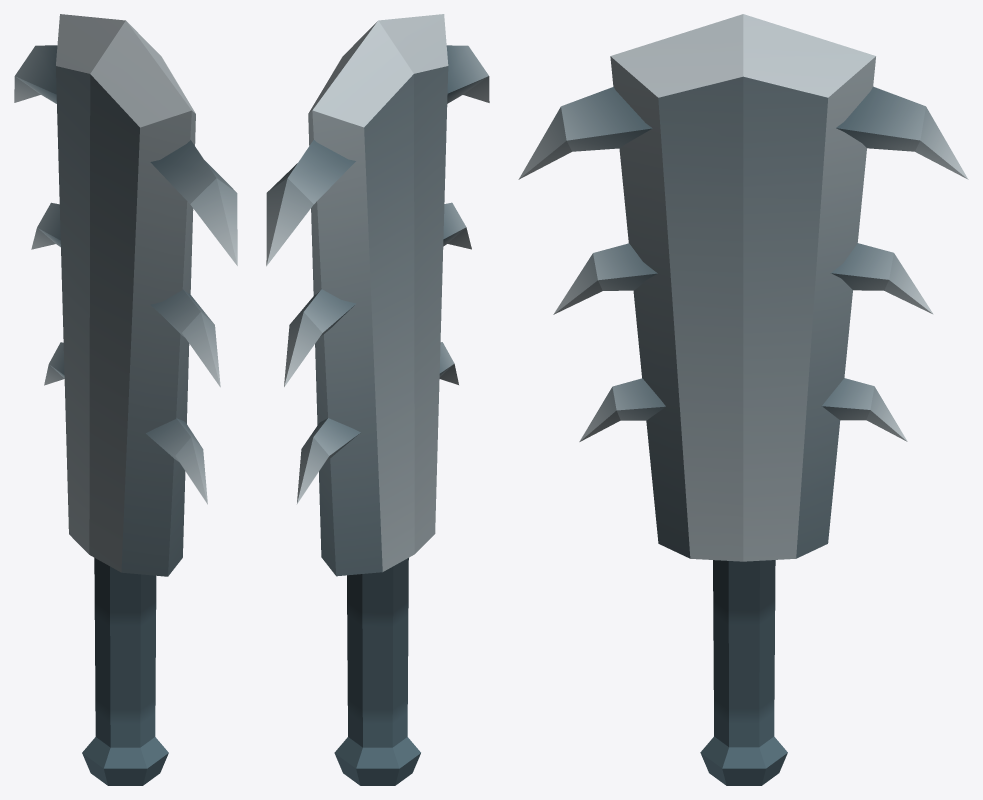
Rendered from wpms cap4a.fbx.
The picture shows the model from 3 angles, left to right: view 1: azimuth 30°, elevation 25°; view 2: azimuth 150°, elevation 25°; view 3: azimuth 270°, elevation 25°; orthographic projection.
Parts seen in each view (by area): view 1: wpms_cap4a; view 2: wpms_cap4a; view 3: wpms_cap4a.
Boxes of the visible parts, bbox=[...] form: wpms_cap4a: bbox=[14, 14, 237, 785]; wpms_cap4a: bbox=[266, 14, 489, 785]; wpms_cap4a: bbox=[518, 14, 968, 785].
Size of the model in its own units: 15.38 by 152 by 81.52.
Materials: 1 (1 with a texture image).
